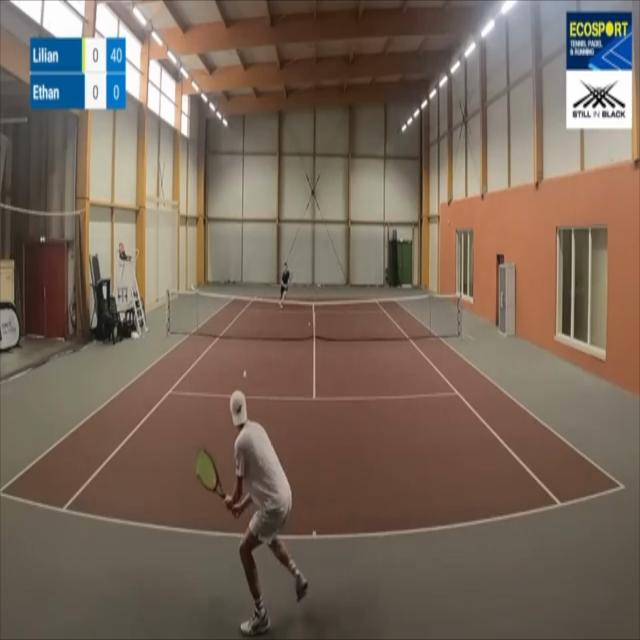ball: (242, 369, 247, 378), (308, 321, 310, 327)
